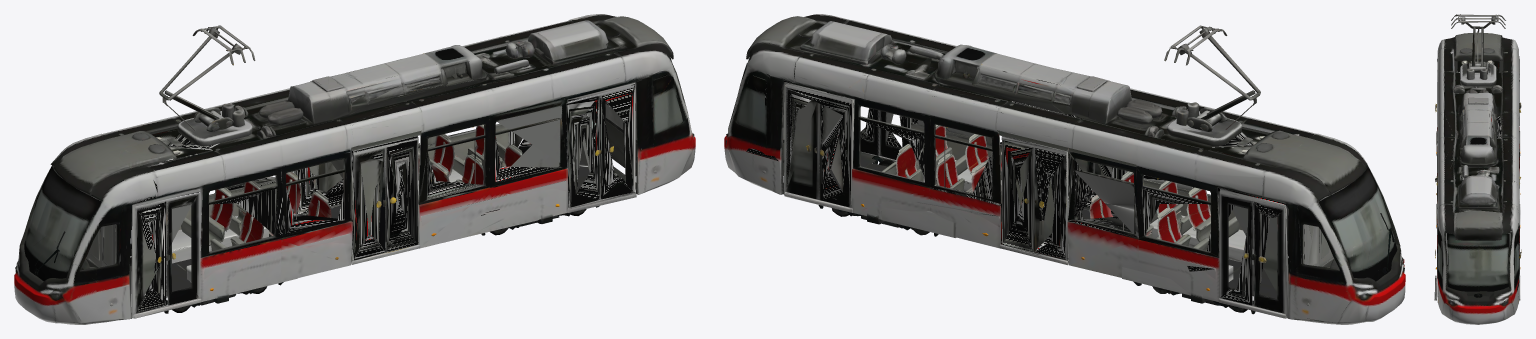
File: tram.glb
The picture shows the model from 3 angles, left to right: view 1: azimuth 30°, elevation 25°; view 2: azimuth 150°, elevation 25°; view 3: azimuth 270°, elevation 25°; orthographic projection. The views are drawn at different scales.
Size of the model in its own units: 16383 by 5772 by 2743.
1 material, 1 textured.
